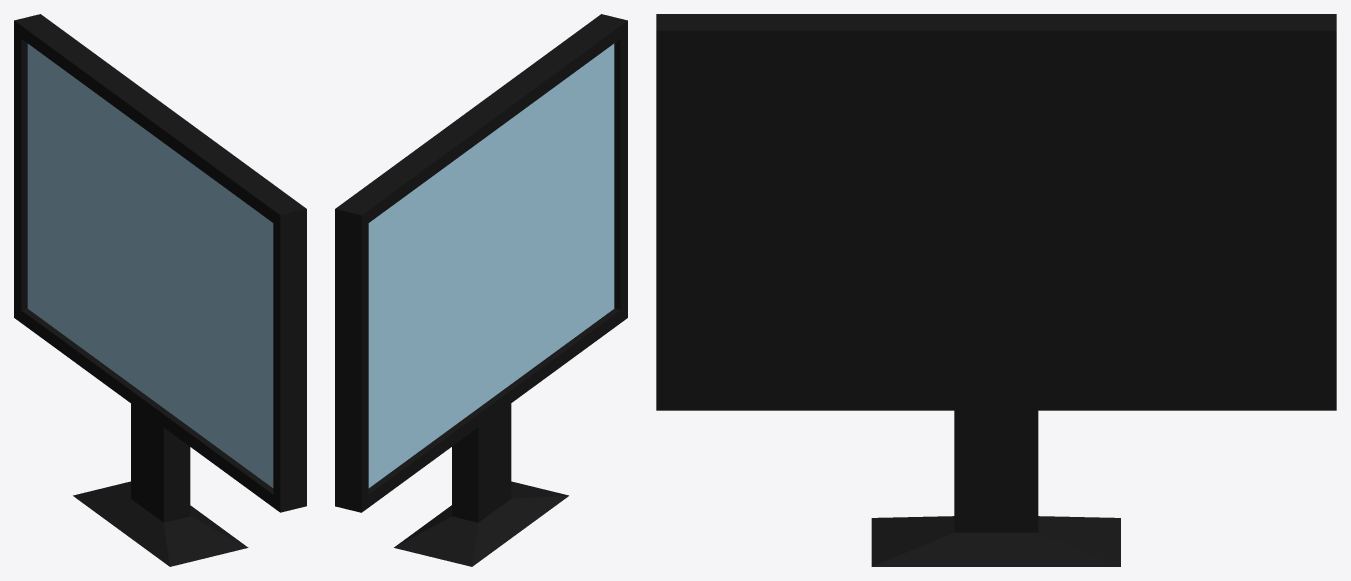
3 renders of one model, left to right at view 1: azimuth 30°, elevation 25°; view 2: azimuth 150°, elevation 25°; view 3: azimuth 270°, elevation 25°, orthographic. The views are drawn at different scales.
Visible parts, largest first — view 1: Cube; view 2: Cube; view 3: Cube.
Boxes of the visible parts, x1=… form: Cube: x1=14, y1=14, x2=306, y2=566; Cube: x1=335, y1=14, x2=627, y2=566; Cube: x1=656, y1=14, x2=1336, y2=566.
Size of the model in its own units: 27.66 by 137 by 162.
Materials: 1 (1 with a texture image).
